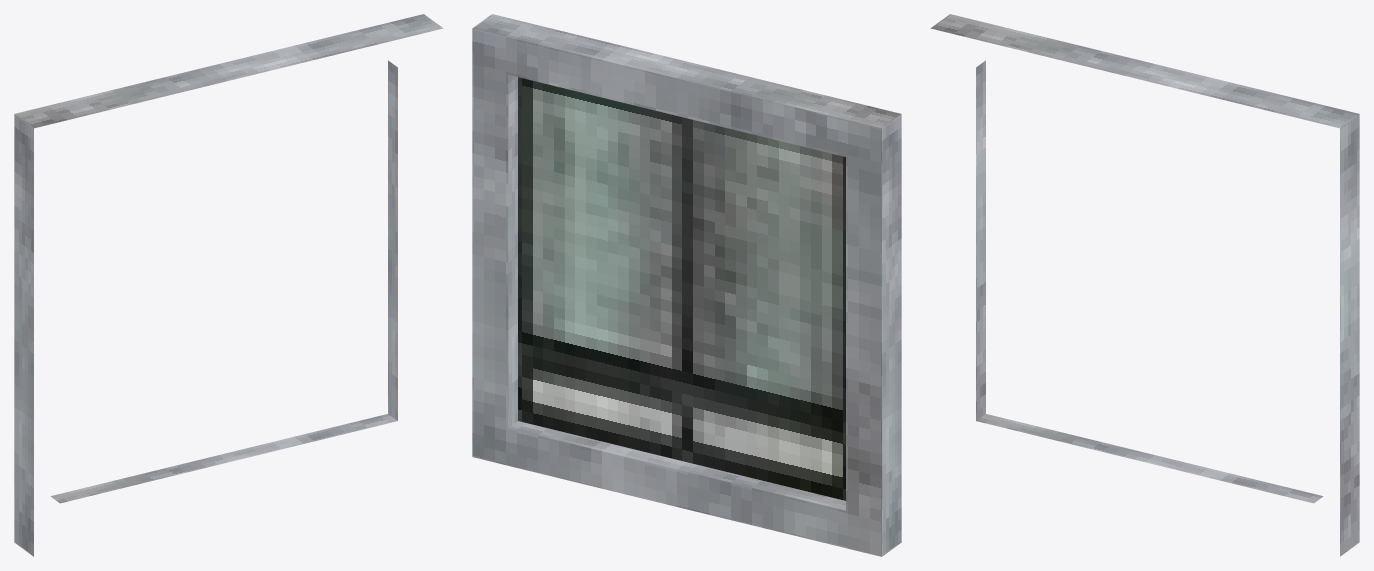
Rendered from kenney-retro-urban-window-wide-type-d.glb.
3 renders of one model, left to right at view 1: azimuth 30°, elevation 25°; view 2: azimuth 150°, elevation 25°; view 3: azimuth 330°, elevation 25°, orthographic.
Visible parts, largest first — view 1: window-wide-type-d; view 2: window-wide-type-d; view 3: window-wide-type-d.
Boxes of the visible parts, bbox=[...] form: window-wide-type-d: bbox=[14, 14, 443, 556]; window-wide-type-d: bbox=[472, 14, 901, 556]; window-wide-type-d: bbox=[930, 14, 1359, 556].
Size of the model in its own units: 0.5978 by 0.5978 by 0.05.
Materials: 2 (2 with a texture image).
